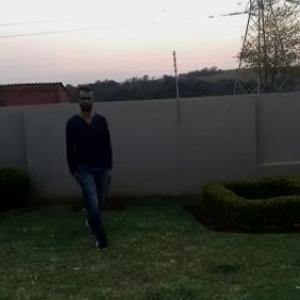follow: (64, 85, 115, 243)
